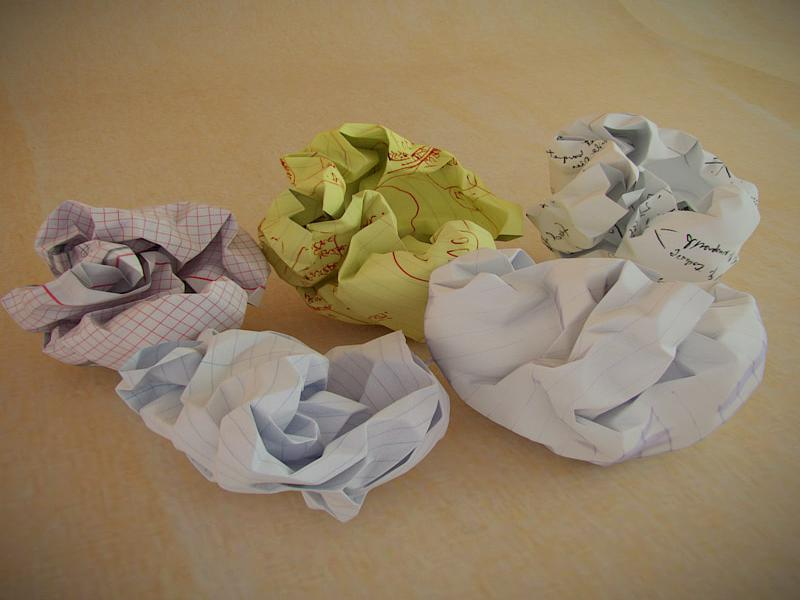paper: (418, 245, 771, 473), (107, 325, 457, 524), (257, 115, 532, 344), (1, 181, 271, 375), (520, 95, 767, 293)
